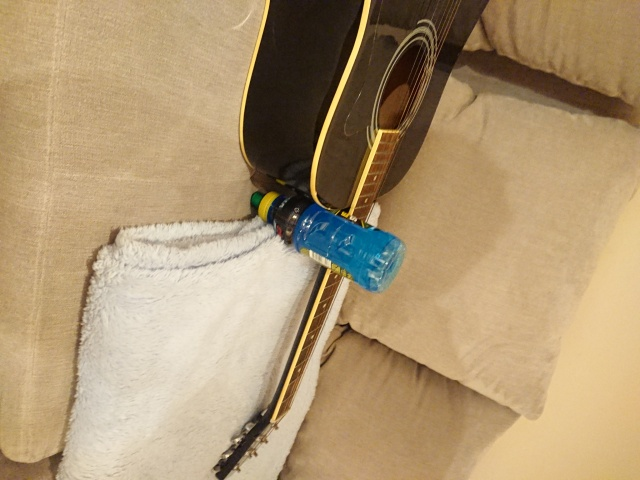Vindi Iso Sport Forest Strawberries 500mL: (249, 189, 408, 294)
